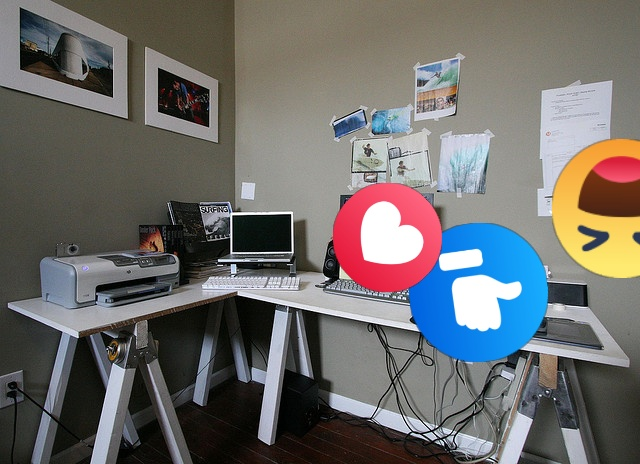haha: (552, 139, 640, 278)
like: (409, 223, 548, 362)
love: (333, 183, 442, 292)
